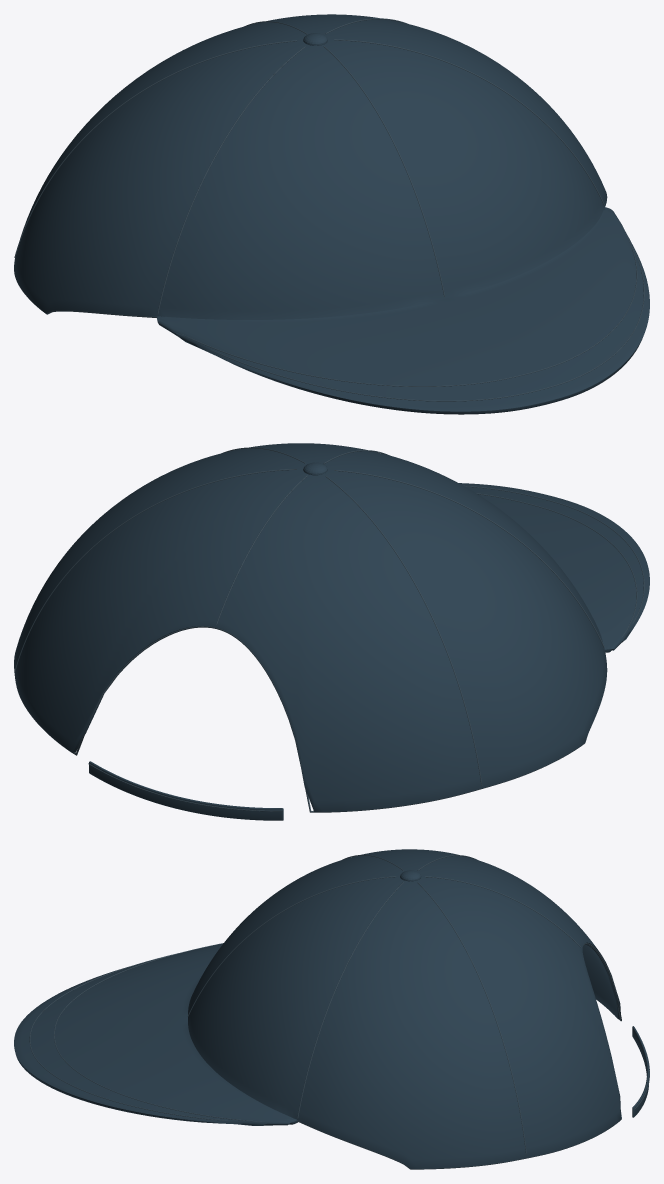
File: Feminine-headgear.glb
The picture shows the model from 3 angles, top to bottom: view 1: azimuth 30°, elevation 25°; view 2: azimuth 150°, elevation 25°; view 3: azimuth 270°, elevation 25°; orthographic projection. The views are drawn at different scales.
Visible parts, largest first — view 1: Cap / sewn crown and curved bill212, Cap / bill stitch212 0.91 export, Cap / bill stitch212 0.77 export, Cap / panel seam212 4 export; view 2: Cap / sewn crown and curved bill212, Cap / rear adjustment strap212, Cap / sewn lower edge212 export, Cap / panel seam212 2 export, Cap / panel seam212 4 export; view 3: Cap / sewn crown and curved bill212, Cap / sewn lower edge212 export, Cap / bill stitch212 0.77 export, Cap / bill stitch212 0.91 export, Cap / rear adjustment strap212.
Boxes of the visible parts, bbox=[...] form: Cap / sewn crown and curved bill212: bbox=[14, 14, 649, 414]; Cap / bill stitch212 0.91 export: bbox=[211, 247, 644, 401]; Cap / bill stitch212 0.77 export: bbox=[180, 225, 637, 386]; Cap / panel seam212 4 export: bbox=[14, 40, 296, 257]; Cap / sewn crown and curved bill212: bbox=[14, 443, 649, 811]; Cap / rear adjustment strap212: bbox=[89, 761, 283, 820]; Cap / sewn lower edge212 export: bbox=[49, 626, 584, 812]; Cap / panel seam212 2 export: bbox=[14, 469, 296, 671]; Cap / panel seam212 4 export: bbox=[325, 476, 482, 785]; Cap / sewn crown and curved bill212: bbox=[14, 849, 621, 1168]; Cap / sewn lower edge212 export: bbox=[297, 943, 621, 1169]; Cap / bill stitch212 0.77 export: bbox=[54, 943, 264, 1121]; Cap / bill stitch212 0.91 export: bbox=[29, 954, 227, 1120]; Cap / rear adjustment strap212: bbox=[632, 1026, 649, 1117].
Bounding box in the file's own units: 0.9999 × 0.431 × 1.18.
